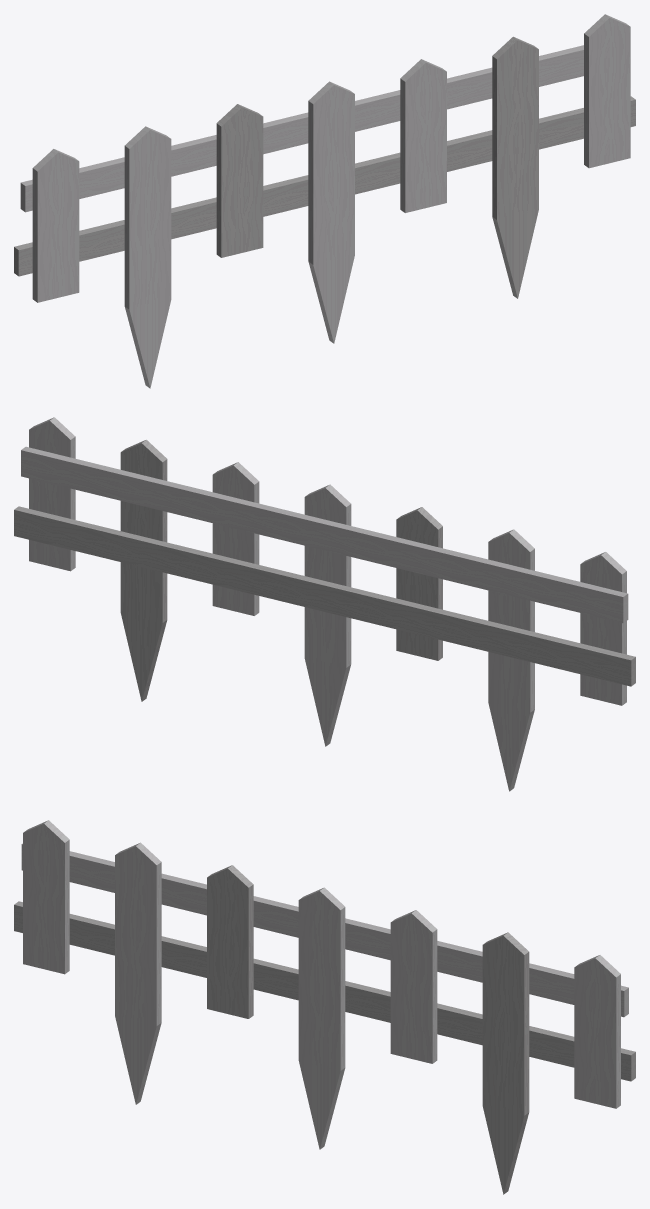
File: 04c3_Planting_Fence.glb
The picture shows the model from 3 angles, top to bottom: view 1: azimuth 30°, elevation 25°; view 2: azimuth 150°, elevation 25°; view 3: azimuth 330°, elevation 25°; orthographic projection.
Visible parts, largest first — view 1: part_0; view 2: part_0; view 3: part_0.
Boxes of the visible parts, left/top/right/bottom form: part_0: left=14, top=14, right=635, bottom=388; part_0: left=14, top=417, right=635, bottom=791; part_0: left=14, top=820, right=635, bottom=1194.
Size of the model in its own units: 0.7377 by 0.2959 by 0.0213.
1 material, 1 textured.
